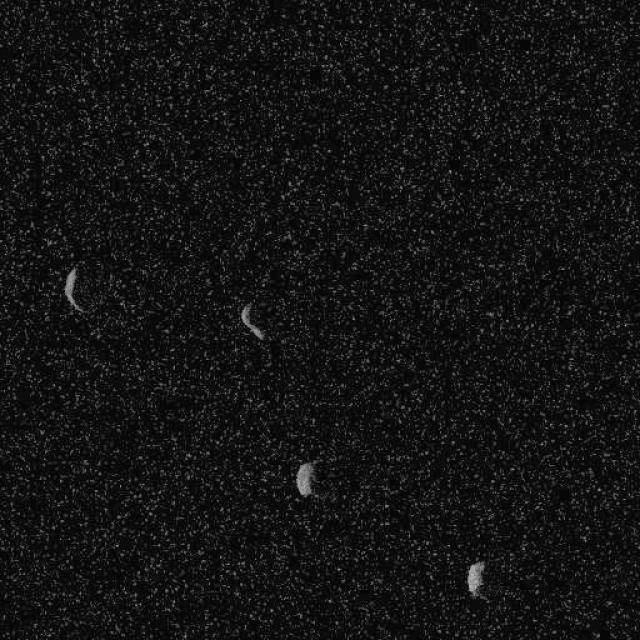D2: (239, 301, 266, 341), (63, 265, 85, 314), (465, 558, 486, 598), (295, 460, 316, 498)
